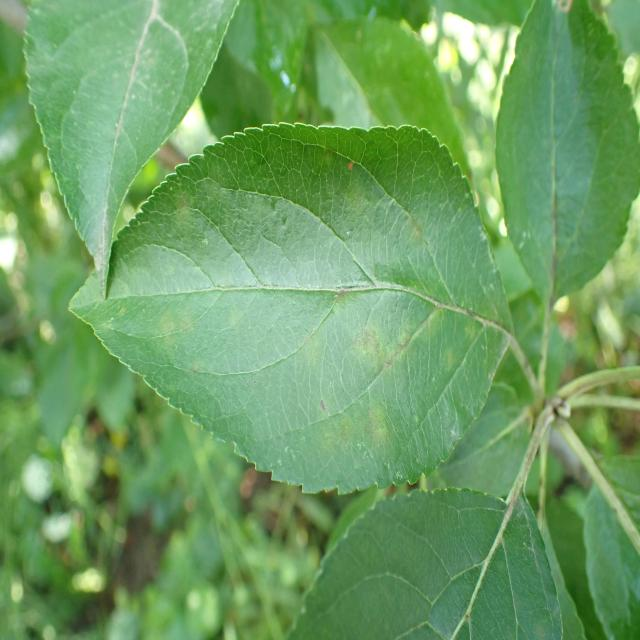scab: (96, 170, 461, 464)
